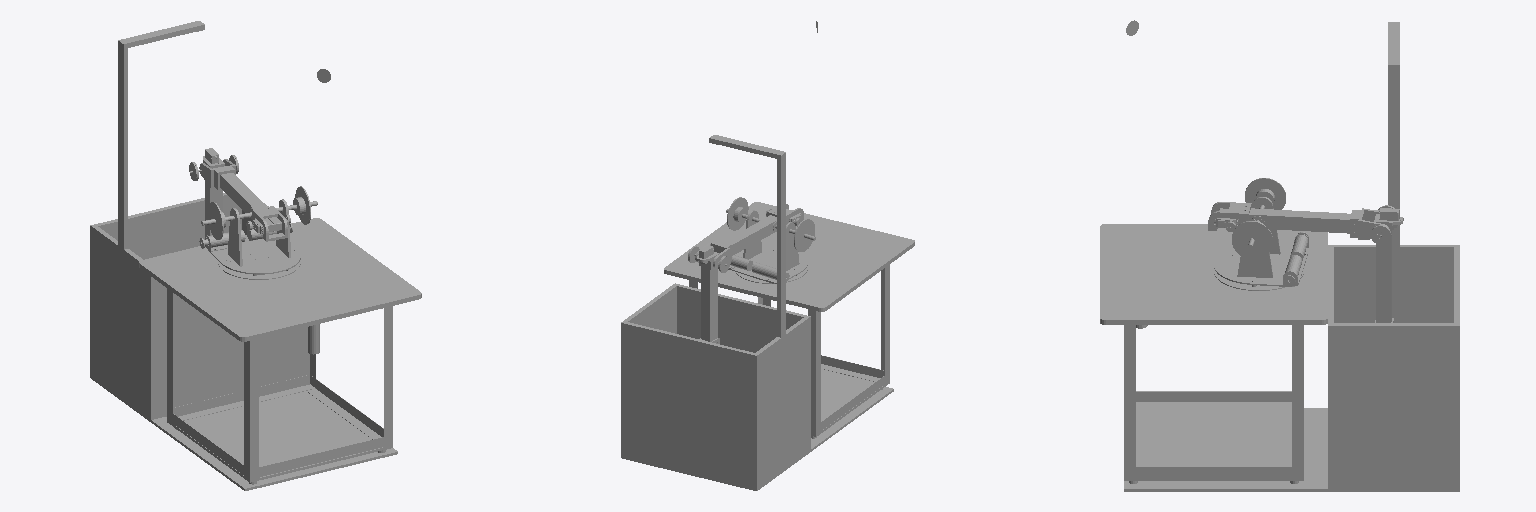
URDF robot description (da_vincibot):
<?xml version="1.0" ?>
<!-- =================================================================================== -->
<!-- |    This document was autogenerated by xacro from [local-path]/final_ws/src/da_vincibot_description/urdf/da_vincibot.xacro | -->
<!-- |    EDITING THIS FILE BY HAND IS NOT RECOMMENDED                                 | -->
<!-- =================================================================================== -->
<robot name="da_vincibot">
    <material name="silver">
        <color rgba="0.700 0.700 0.700 1.000" />
    </material>
    <transmission name="joint1_shoulder_tran">
        <type>transmission_interface/SimpleTransmission</type>
        <joint name="joint1_shoulder">
            <hardwareInterface>hardware_interface/EffortJointInterface</hardwareInterface>
        </joint>
        <actuator name="joint1_shoulder_actr">
            <hardwareInterface>hardware_interface/EffortJointInterface</hardwareInterface>
            <mechanicalReduction>1</mechanicalReduction>
        </actuator>
    </transmission>
    <transmission name="joint2_forearm_tran">
        <type>transmission_interface/SimpleTransmission</type>
        <joint name="joint2_forearm">
            <hardwareInterface>hardware_interface/EffortJointInterface</hardwareInterface>
        </joint>
        <actuator name="joint2_forearm_actr">
            <hardwareInterface>hardware_interface/EffortJointInterface</hardwareInterface>
            <mechanicalReduction>1</mechanicalReduction>
        </actuator>
    </transmission>
    <transmission name="joint3_hand_tran">
        <type>transmission_interface/SimpleTransmission</type>
        <joint name="joint3_hand">
            <hardwareInterface>hardware_interface/EffortJointInterface</hardwareInterface>
        </joint>
        <actuator name="joint3_hand_actr">
            <hardwareInterface>hardware_interface/EffortJointInterface</hardwareInterface>
            <mechanicalReduction>1</mechanicalReduction>
        </actuator>
    </transmission>
    <transmission name="joint4_handyaw_tran">
        <type>transmission_interface/SimpleTransmission</type>
        <joint name="joint4_handyaw">
            <hardwareInterface>hardware_interface/EffortJointInterface</hardwareInterface>
        </joint>
        <actuator name="joint4_handyaw_actr">
            <hardwareInterface>hardware_interface/EffortJointInterface</hardwareInterface>
            <mechanicalReduction>1</mechanicalReduction>
        </actuator>
    </transmission>
    <transmission name="joint5_end_tran">
        <type>transmission_interface/SimpleTransmission</type>
        <joint name="joint5_end">
            <hardwareInterface>hardware_interface/EffortJointInterface</hardwareInterface>
        </joint>
        <actuator name="joint5_end_actr">
            <hardwareInterface>hardware_interface/EffortJointInterface</hardwareInterface>
            <mechanicalReduction>1</mechanicalReduction>
        </actuator>
    </transmission>
    <gazebo>
        <plugin filename="libgazebo_ros_control.so" name="gazebo_ros_control">
            <robotNamespace>/</robotNamespace>
        </plugin>
    </gazebo>
    <gazebo reference="base_link">
        <material>Gazebo/Silver</material>
        <mu1>0.2</mu1>
        <mu2>0.2</mu2>
        <selfCollide>true</selfCollide>
        <gravity>true</gravity>
    </gazebo>
    <gazebo reference="foundation_base_1">
        <material>Gazebo/Silver</material>
        <mu1>0.2</mu1>
        <mu2>0.2</mu2>
        <selfCollide>true</selfCollide>
    </gazebo>
    <gazebo reference="shoulder_1">
        <material>Gazebo/Silver</material>
        <mu1>0.2</mu1>
        <mu2>0.2</mu2>
        <selfCollide>true</selfCollide>
    </gazebo>
    <gazebo reference="forearm_1">
        <material>Gazebo/Silver</material>
        <mu1>0.2</mu1>
        <mu2>0.2</mu2>
        <selfCollide>true</selfCollide>
    </gazebo>
    <gazebo reference="hand_1">
        <material>Gazebo/Silver</material>
        <mu1>0.2</mu1>
        <mu2>0.2</mu2>
        <selfCollide>true</selfCollide>
    </gazebo>
    <gazebo reference="hand_yaw_1">
        <material>Gazebo/Silver</material>
        <mu1>0.2</mu1>
        <mu2>0.2</mu2>
        <selfCollide>true</selfCollide>
    </gazebo>
    <gazebo reference="end_effector_1">
        <material>Gazebo/Silver</material>
        <mu1>0.2</mu1>
        <mu2>0.2</mu2>
        <selfCollide>true</selfCollide>
    </gazebo>
    <gazebo reference="end_1">
        <material>Gazebo/Silver</material>
        <mu1>0.2</mu1>
        <mu2>0.2</mu2>
        <selfCollide>true</selfCollide>
    </gazebo>
    <gazebo reference="arducam_v1_1">
        <material>Gazebo/Silver</material>
        <mu1>0.2</mu1>
        <mu2>0.2</mu2>
        <selfCollide>true</selfCollide>
    </gazebo>
    <link name="dummy" />
    <joint name="dummy_joint" type="fixed">
        <parent link="dummy" />
        <child link="base_link" />
    </joint>
    <link name="base_link">
        <inertial>
            <origin rpy="0 0 0" xyz="-0.013780680089318771 0.29685490907620005 0.1796297335203369" />
            <mass value="35.9352" />
            <inertia ixx="3.30678" ixy="0.006439" ixz="0.135672" iyy="3.232001" iyz="-0.268124" izz="3.200963" />
        </inertial>
        <visual>
            <origin rpy="0 0 0" xyz="0 0 0" />
            <geometry>
                <mesh filename="package://da_vincibot_description/meshes/base_link.stl" scale="0.001 0.001 0.001" />
            </geometry>
            <material name="silver" />
        </visual>
        <collision>
            <origin rpy="0 0 0" xyz="0 0 0" />
            <geometry>
                <mesh filename="package://da_vincibot_description/meshes/base_link.stl" scale="0.001 0.001 0.001" />
            </geometry>
        </collision>
    </link>
    <link name="foundation_base_1">
        <inertial>
            <origin rpy="0 0 0" xyz="0.009586868297954514 -0.04216855497473093 0.47160422842803157" />
            <mass value="118.48330496102017" />
            <inertia ixx="13.892787" ixy="-0.0" ixz="0.0" iyy="13.72668" iyz="-0.004549" izz="10.409594" />
        </inertial>
        <visual>
            <origin rpy="0 0 0" xyz="0.019174 0.220837 -0.01" />
            <geometry>
                <mesh filename="package://da_vincibot_description/meshes/foundation_base_1.stl" scale="0.001 0.001 0.001" />
            </geometry>
            <material name="silver" />
        </visual>
        <collision>
            <origin rpy="0 0 0" xyz="0.019174 0.220837 -0.01" />
            <geometry>
                <mesh filename="package://da_vincibot_description/meshes/foundation_base_1.stl" scale="0.001 0.001 0.001" />
            </geometry>
        </collision>
    </link>
    <link name="shoulder_1">
        <inertial>
            <origin rpy="0 0 0" xyz="0.025755144680148674 -0.03339939669169957 0.036650849280556064" />
            <mass value="12.004176876206436" />
            <inertia ixx="0.118408" ixy="-0.010234" ixz="-0.003498" iyy="0.123788" iyz="0.004536" izz="0.147792" />
        </inertial>
        <visual>
            <origin rpy="0 0 0" xyz="0.009587 0.110419 -0.661" />
            <geometry>
                <mesh filename="package://da_vincibot_description/meshes/shoulder_1.stl" scale="0.001 0.001 0.001" />
            </geometry>
            <material name="silver" />
        </visual>
        <collision>
            <origin rpy="0 0 0" xyz="0.009587 0.110419 -0.661" />
            <geometry>
                <mesh filename="package://da_vincibot_description/meshes/shoulder_1.stl" scale="0.001 0.001 0.001" />
            </geometry>
        </collision>
    </link>
    <link name="forearm_1">
        <inertial>
            <origin rpy="0 0 0" xyz="0.07100778254631218 0.05529958973514852 0.04756542152195098" />
            <mass value="3.191348499369228" />
            <inertia ixx="0.110231" ixy="-0.013234" ixz="-5.6e-05" iyy="0.117188" iyz="7.3e-05" izz="0.030159" />
        </inertial>
        <visual>
            <origin rpy="0 0 0" xyz="0.080858 0.165377 -0.8545" />
            <geometry>
                <mesh filename="package://da_vincibot_description/meshes/forearm_1.stl" scale="0.001 0.001 0.001" />
            </geometry>
            <material name="silver" />
        </visual>
        <collision>
            <origin rpy="0 0 0" xyz="0.080858 0.165377 -0.8545" />
            <geometry>
                <mesh filename="package://da_vincibot_description/meshes/forearm_1.stl" scale="0.001 0.001 0.001" />
            </geometry>
        </collision>
    </link>
    <link name="hand_1">
        <inertial>
            <origin rpy="0 0 0" xyz="0.06852918277686675 -0.018721106792791237 0.054914933721003534" />
            <mass value="1.0665942147498997" />
            <inertia ixx="0.019749" ixy="0.00654" ixz="-0.007076" iyy="0.01631" iyz="0.009176" izz="0.01667" />
        </inertial>
        <visual>
            <origin rpy="0 0 0" xyz="0.041263 0.134845 -1.2745" />
            <geometry>
                <mesh filename="package://da_vincibot_description/meshes/hand_1.stl" scale="0.001 0.001 0.001" />
            </geometry>
            <material name="silver" />
        </visual>
        <collision>
            <origin rpy="0 0 0" xyz="0.041263 0.134845 -1.2745" />
            <geometry>
                <mesh filename="package://da_vincibot_description/meshes/hand_1.stl" scale="0.001 0.001 0.001" />
            </geometry>
        </collision>
    </link>
    <link name="hand_yaw_1">
        <inertial>
            <origin rpy="0 0 0" xyz="0.014367043283520231 -0.01863117350897281 0.01974203571842792" />
            <mass value="0.19279513921054878" />
            <inertia ixx="0.00039" ixy="8.1e-05" ixz="8.9e-05" iyy="0.000349" iyz="-0.000115" izz="0.000235" />
        </inertial>
        <visual>
            <origin rpy="0 0 0" xyz="-0.175095 0.345273 -1.525187" />
            <geometry>
                <mesh filename="package://da_vincibot_description/meshes/hand_yaw_1.stl" scale="0.001 0.001 0.001" />
            </geometry>
            <material name="silver" />
        </visual>
        <collision>
            <origin rpy="0 0 0" xyz="-0.175095 0.345273 -1.525187" />
            <geometry>
                <mesh filename="package://da_vincibot_description/meshes/hand_yaw_1.stl" scale="0.001 0.001 0.001" />
            </geometry>
        </collision>
    </link>
    <link name="end_effector_1">
        <inertial>
            <origin rpy="0 0 0" xyz="-0.13513566300895505 -0.08879838085005426 0.024916464751506773" />
            <mass value="0.49047145154717503" />
            <inertia ixx="0.000952" ixy="-0.00082" ixz="3.9e-05" iyy="0.001273" iyz="2.2e-05" izz="0.001944" />
        </inertial>
        <visual>
            <origin rpy="0 0 0" xyz="-0.211088 0.391885 -1.541968" />
            <geometry>
                <mesh filename="package://da_vincibot_description/meshes/end_effector_1.stl" scale="0.001 0.001 0.001" />
            </geometry>
            <material name="silver" />
        </visual>
        <collision>
            <origin rpy="0 0 0" xyz="-0.211088 0.391885 -1.541968" />
            <geometry>
                <mesh filename="package://da_vincibot_description/meshes/end_effector_1.stl" scale="0.001 0.001 0.001" />
            </geometry>
        </collision>
    </link>
    <link name="end_1">
        <inertial>
            <origin rpy="0 0 0" xyz="-3.878603250144497e-05 -3.171408265412179e-05 1.5213265980307256e-06" />
            <mass value="0.00014967725498964528" />
            <inertia ixx="0.0" ixy="0.0" ixz="-0.0" iyy="0.0" iyz="-0.0" izz="0.0" />
        </inertial>
        <visual>
            <origin rpy="0 0 0" xyz="-0.016138 0.531822 -1.567211" />
            <geometry>
                <mesh filename="package://da_vincibot_description/meshes/end_1.stl" scale="0.001 0.001 0.001" />
            </geometry>
            <material name="silver" />
        </visual>
        <collision>
            <origin rpy="0 0 0" xyz="-0.016138 0.531822 -1.567211" />
            <geometry>
                <mesh filename="package://da_vincibot_description/meshes/end_1.stl" scale="0.001 0.001 0.001" />
            </geometry>
        </collision>
    </link>
    <link name="arducam_v1_1">
        <inertial>
            <origin rpy="0 0 0" xyz="-0.020000131702510495 4.1679008455641764e-07 -0.0021523835366652477" />
            <mass value="0.0047707963267949235" />
            <inertia ixx="0.0" ixy="0.0" ixz="0.0" iyy="0.0" iyz="0.0" izz="1e-06" />
        </inertial>
        <visual>
            <origin rpy="0 0 0" xyz="-0.010413 -0.339581 -1.41" />
            <geometry>
                <mesh filename="package://da_vincibot_description/meshes/arducam_v1_1.stl" scale="0.001 0.001 0.001" />
            </geometry>
            <material name="silver" />
        </visual>
        <collision>
            <origin rpy="0 0 0" xyz="-0.010413 -0.339581 -1.41" />
            <geometry>
                <mesh filename="package://da_vincibot_description/meshes/arducam_v1_1.stl" scale="0.001 0.001 0.001" />
            </geometry>
        </collision>
    </link>
    <joint name="rigid2" type="fixed">
        <origin rpy="0 0 0" xyz="-0.019174 -0.220837 0.01" />
        <parent link="base_link" />
        <child link="foundation_base_1" />
    </joint>
    <joint name="joint1_shoulder" type="revolute">
        <origin rpy="0 0 0" xyz="0.009587 0.110418 0.651" />
        <parent link="foundation_base_1" />
        <child link="shoulder_1" />
        <axis xyz="0.0 -0.0 1.0" />
        <limit effort="100" lower="0.0" upper="4.712389" velocity="100" />
    </joint>
    <joint name="joint2_forearm" type="revolute">
        <origin rpy="0 0 0" xyz="-0.071271 -0.054958 0.1935" />
        <parent link="shoulder_1" />
        <child link="forearm_1" />
        <axis xyz="0.7919 0.61065 0.0" />
        <limit effort="100" lower="0.0" upper="2.094395" velocity="100" />
    </joint>
    <joint name="joint3_hand" type="revolute">
        <origin rpy="0 0 0" xyz="0.039595 0.030532 0.42" />
        <parent link="forearm_1" />
        <child link="hand_1" />
        <axis xyz="0.7919 0.61065 0.0" />
        <limit effort="100" lower="0.0" upper="1.396263" velocity="100" />
    </joint>
    <joint name="joint4_handyaw" type="revolute">
        <origin rpy="0 0 0" xyz="0.216358 -0.210428 0.250687" />
        <parent link="hand_1" />
        <child link="hand_yaw_1" />
        <axis xyz="-0.467785 0.606631 -0.642788" />
        <limit effort="100" lower="0.0" upper="3.141593" velocity="100" />
    </joint>
    <joint name="joint5_end" type="revolute">
        <origin rpy="0 0 0" xyz="0.035993 -0.046612 0.016781" />
        <parent link="hand_yaw_1" />
        <child link="end_effector_1" />
        <axis xyz="-0.393746 0.508076 0.766044" />
        <limit effort="100" lower="0.0" upper="3.141593" velocity="100" />
    </joint>
    <joint name="end_rigid" type="fixed">
        <origin rpy="0 0 0" xyz="-0.19495 -0.139937 0.025243" />
        <parent link="end_effector_1" />
        <child link="end_1" />
    </joint>
    <joint name="rigid1" type="fixed">
        <origin rpy="0 0 0" xyz="0.010413 0.339581 1.41" />
        <parent link="base_link" />
        <child link="arducam_v1_1" />
    </joint>
</robot>

--- What the picture shows (computed from the rendered views, not written in the file) ---
Views: 3 orthographic renders of the robot side by side, from view 1: azimuth 30°, elevation 25°; view 2: azimuth 150°, elevation 25°; view 3: azimuth 270°, elevation 25°.
Model da_vincibot with 10 links and 9 joints (5 revolute, 4 fixed), rooted at dummy, posed all joints at 0.
Links seen in each view (by area): view 1: foundation_base_1, base_link, forearm_1, shoulder_1, hand_1; view 2: base_link, foundation_base_1, forearm_1, shoulder_1, hand_1; view 3: base_link, foundation_base_1, forearm_1, shoulder_1, hand_1.
Link boxes in pixels (x1=…): foundation_base_1: x1=139, y1=218, x2=421, y2=484; base_link: x1=90, y1=21, x2=397, y2=490; forearm_1: x1=199, y1=159, x2=317, y2=241; shoulder_1: x1=199, y1=199, x2=300, y2=275; hand_1: x1=189, y1=148, x2=238, y2=236; base_link: x1=621, y1=135, x2=893, y2=490; foundation_base_1: x1=664, y1=202, x2=914, y2=438; forearm_1: x1=695, y1=197, x2=815, y2=267; shoulder_1: x1=728, y1=210, x2=807, y2=283; hand_1: x1=688, y1=245, x2=730, y2=343; base_link: x1=1124, y1=22, x2=1459, y2=491; foundation_base_1: x1=1100, y1=224, x2=1327, y2=483; forearm_1: x1=1208, y1=178, x2=1388, y2=259; shoulder_1: x1=1214, y1=197, x2=1308, y2=286; hand_1: x1=1370, y1=205, x2=1403, y2=322.
Size in the robot's own frame: 0.76 by 1.2 by 1.59 metres.
9 mesh visuals loaded from 9 distinct referenced files (9 binary STL).
